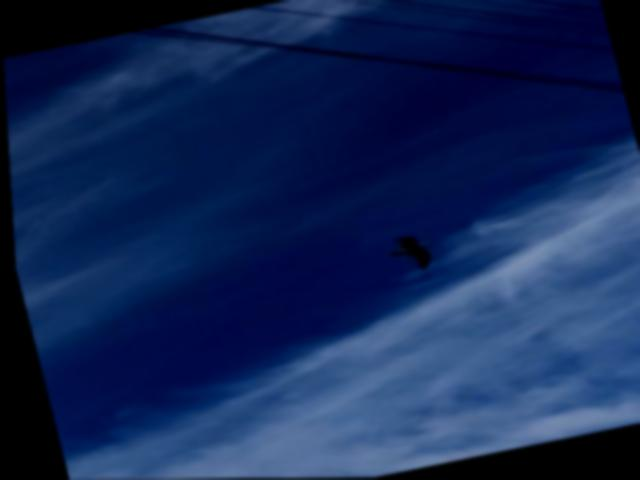bird: (370, 222, 459, 285)
